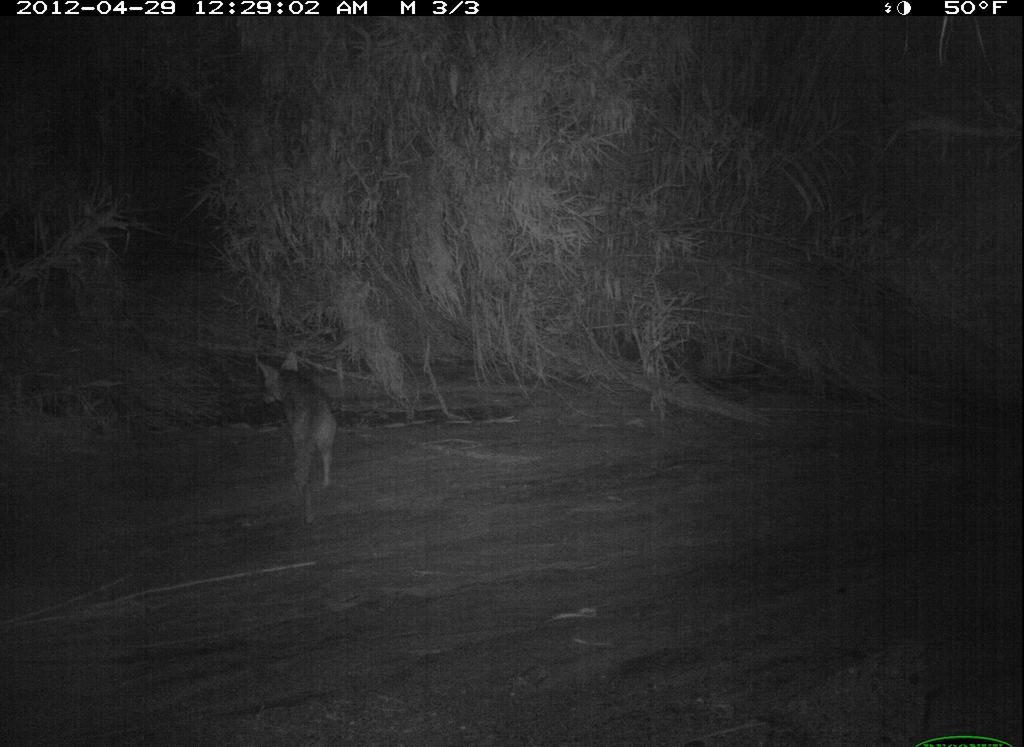coyote: (254, 345, 354, 501)
